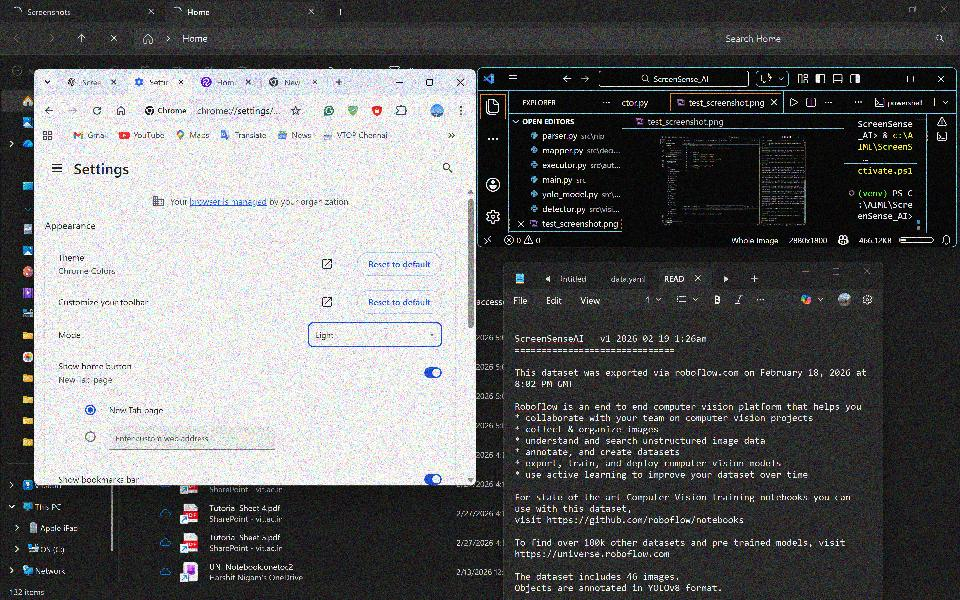close_button: (931, 71, 954, 87), (451, 73, 470, 92), (934, 2, 955, 18), (857, 263, 877, 279)
maximize_button: (417, 73, 444, 92), (901, 3, 925, 20), (826, 263, 846, 281), (900, 72, 922, 88)
minimize_button: (390, 72, 410, 94), (873, 2, 894, 19), (872, 70, 890, 89), (798, 263, 816, 280)
